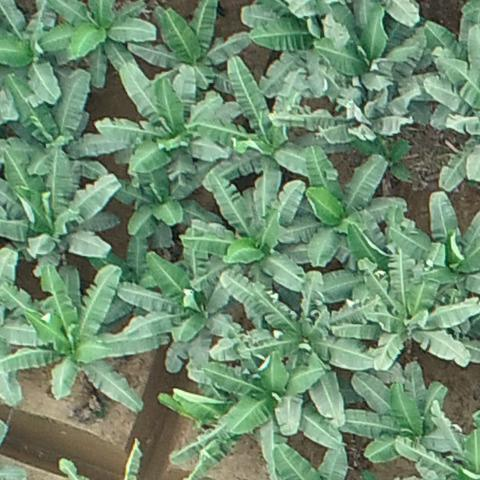Banana-plant: (215, 273, 390, 422), (0, 264, 174, 413), (115, 252, 263, 383), (179, 171, 327, 295), (200, 57, 337, 189), (95, 61, 247, 179), (202, 357, 348, 479), (0, 144, 123, 283), (344, 249, 480, 370), (342, 357, 474, 480), (279, 149, 407, 271), (0, 72, 129, 192), (307, 2, 429, 124), (125, 0, 259, 98), (105, 159, 231, 256), (36, 0, 158, 91), (386, 186, 480, 287), (0, 0, 85, 103), (349, 122, 414, 187)
